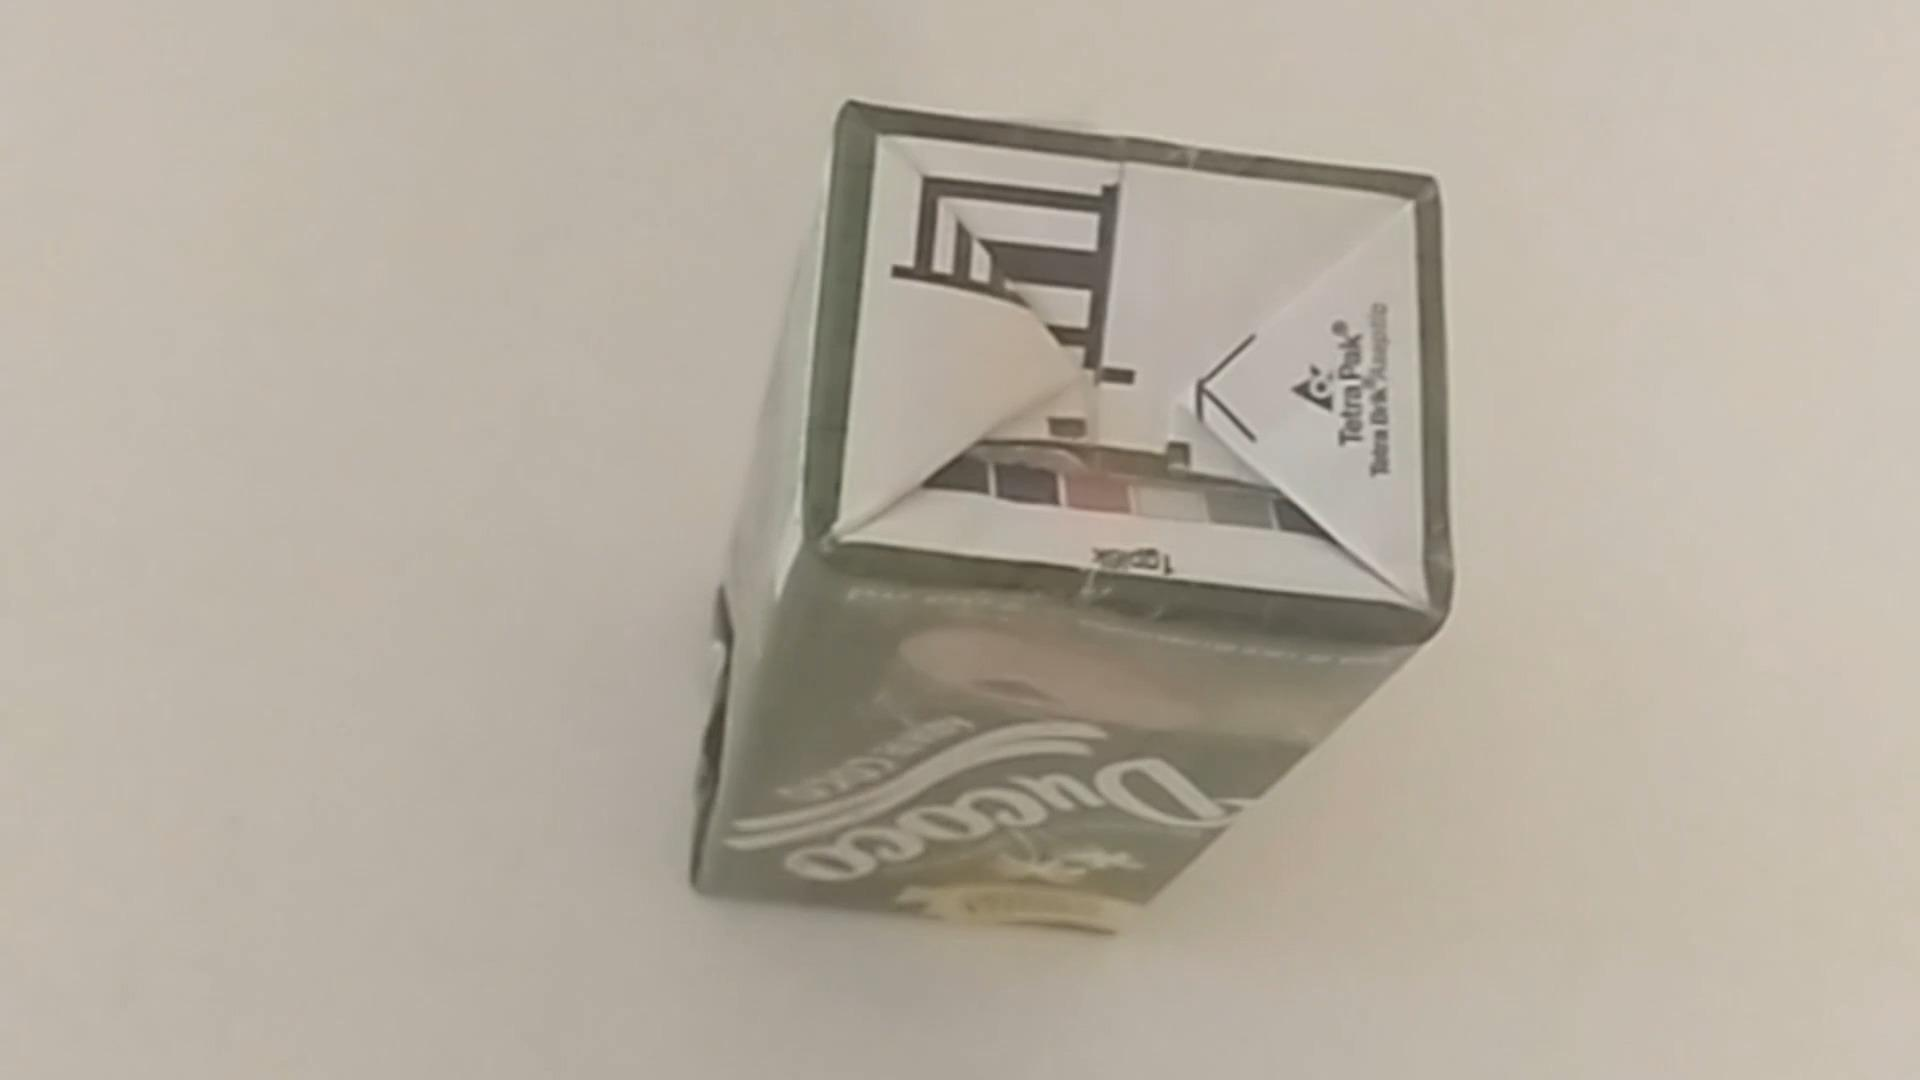coco: (686, 103, 1445, 936)
